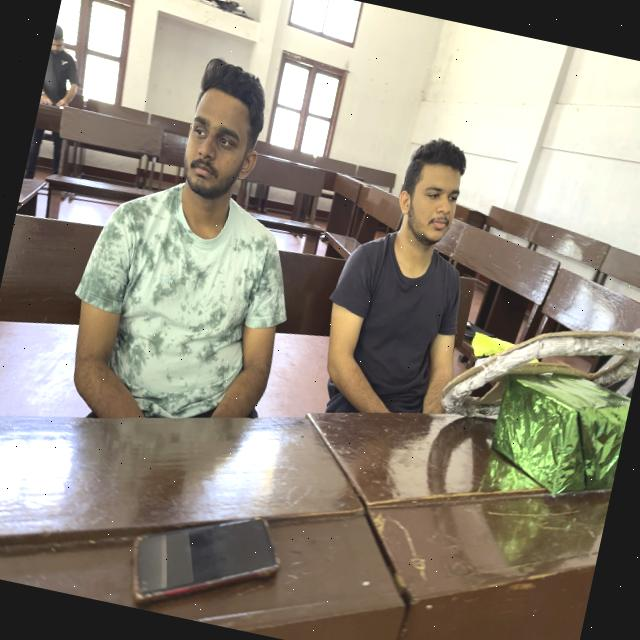Helmet: (43, 168, 304, 474), (303, 228, 478, 454)
